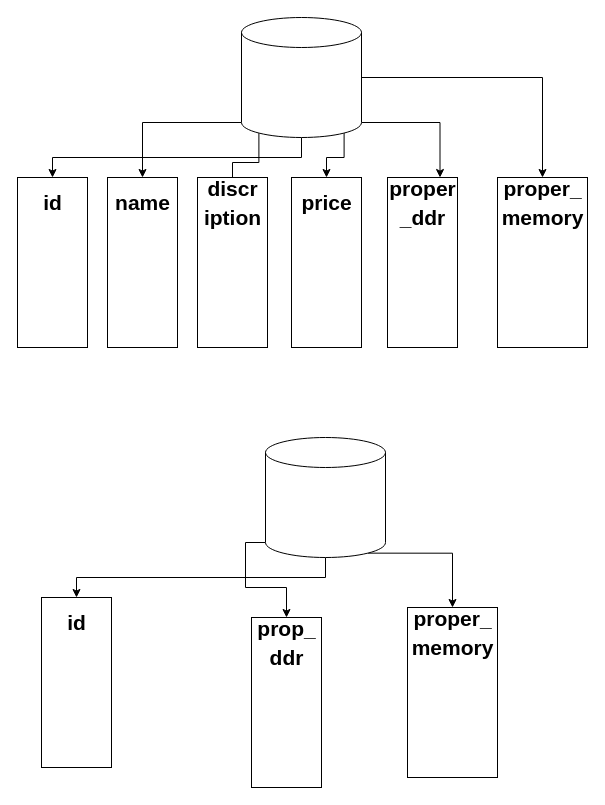
Some shapes in this 605 by 805 pixel diagram are drawn without their labels. The shapes that lost their labels are listed below. From the top down, each one's centre as x and y in pixels, then its label:
point (301, 77): pc_comp
point (325, 497): pc_comp_ prop
